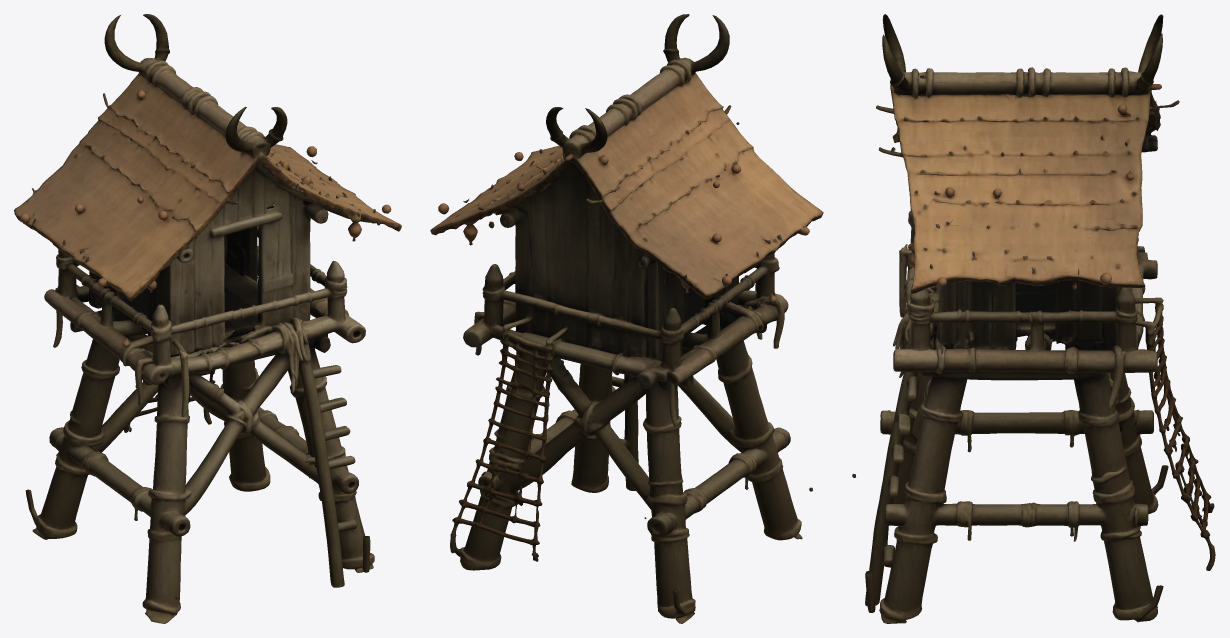
Rendered from goblin-tower-v2.glb.
The picture shows the model from 3 angles, left to right: view 1: azimuth 30°, elevation 25°; view 2: azimuth 150°, elevation 25°; view 3: azimuth 270°, elevation 25°; orthographic projection. The views are drawn at different scales.
Parts seen in each view (by area): view 1: world; view 2: world; view 3: world.
Boxes of the visible parts, x1,y1,x2,y2 form: world: (14, 14, 401, 623); world: (430, 14, 823, 623); world: (852, 14, 1215, 623).
Size of the model in its own units: 0.6188 by 0.9992 by 0.6042.
1 material, 1 textured.
